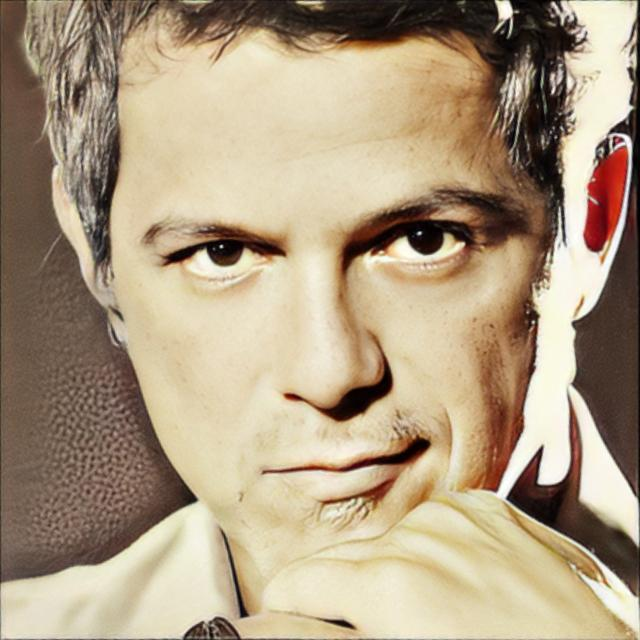content: (112, 12, 573, 574)
